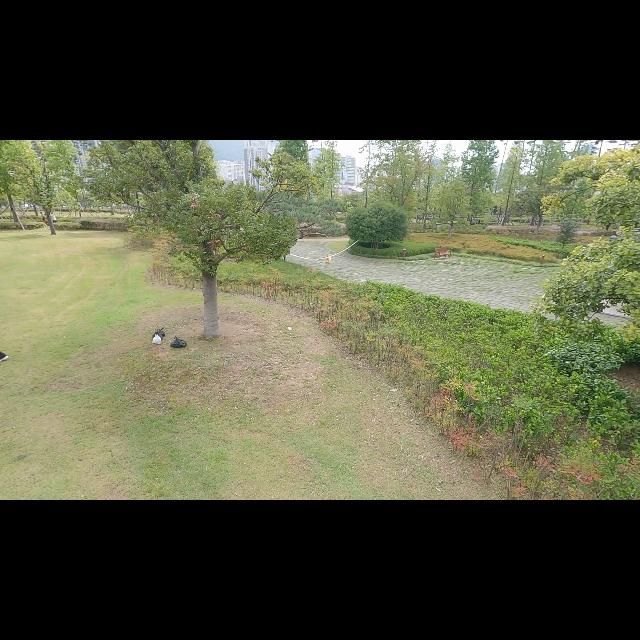trash: (170, 336, 187, 348), (150, 334, 162, 346), (152, 328, 162, 339), (158, 328, 166, 337)
